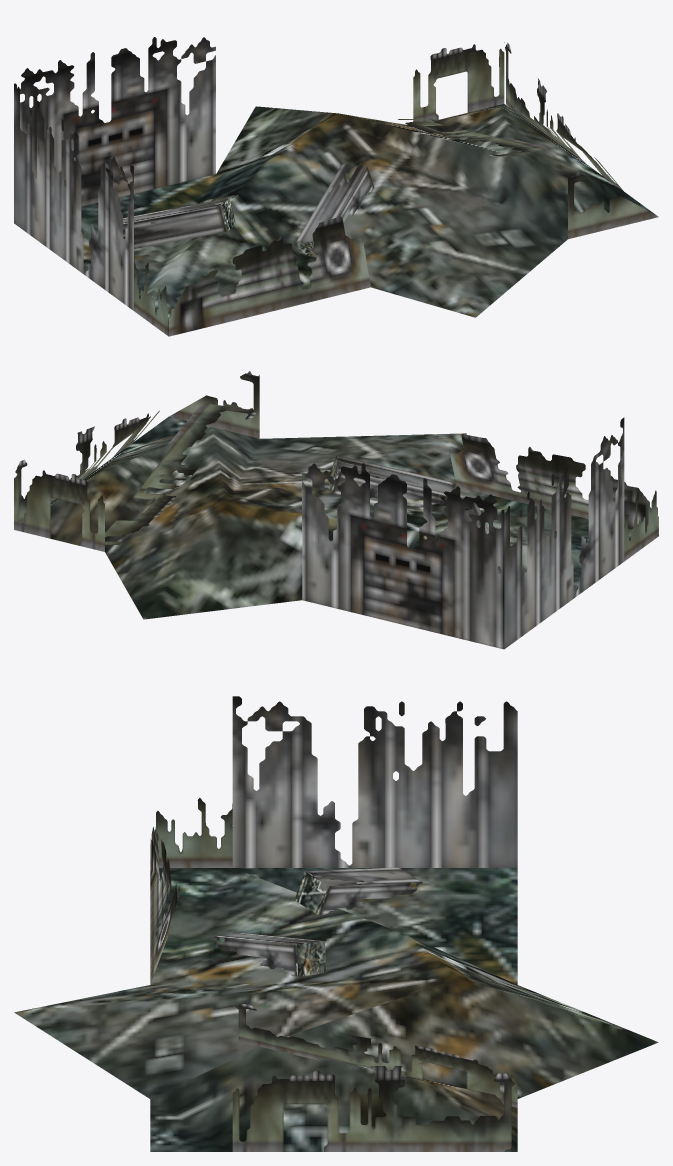
Rendered from factorylg_dam.glb.
3 views of the same model, one above another, from view 1: azimuth 30°, elevation 25°; view 2: azimuth 150°, elevation 25°; view 3: azimuth 270°, elevation 25° (orthographic). The views are drawn at different scales.
Visible parts, largest first — view 1: Object01; view 2: Object01; view 3: Object01.
Part boxes in pixels (bbox=[...]): Object01: bbox=[14, 37, 658, 336]; Object01: bbox=[14, 371, 658, 649]; Object01: bbox=[14, 696, 658, 1151].
Size of the model in its own units: 29.52 by 9.49 by 28.33.
2 materials, 2 textured.
